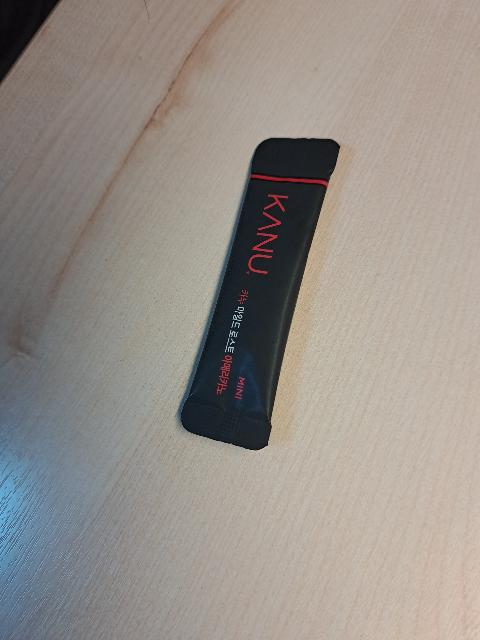KANU: (153, 116, 352, 457)
